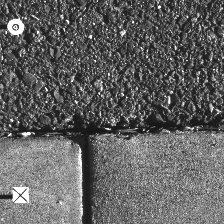circle: (7, 18, 25, 34)
crack: (1, 120, 223, 138)
square: (12, 186, 28, 202)
